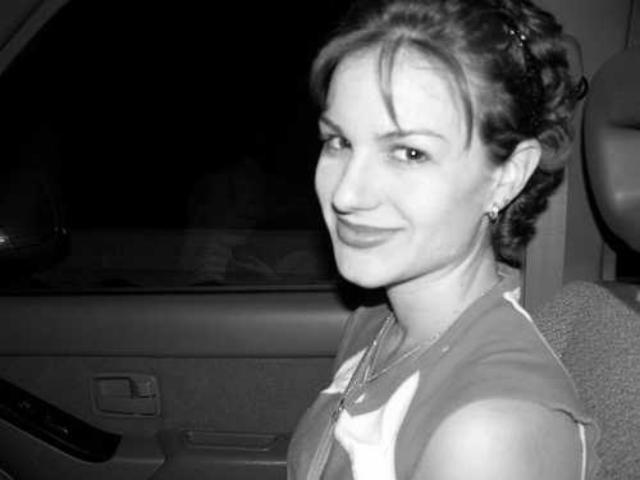SafeDriving: (378, 130, 443, 170), (314, 118, 362, 158)
Seatbelt: (303, 306, 397, 480)
